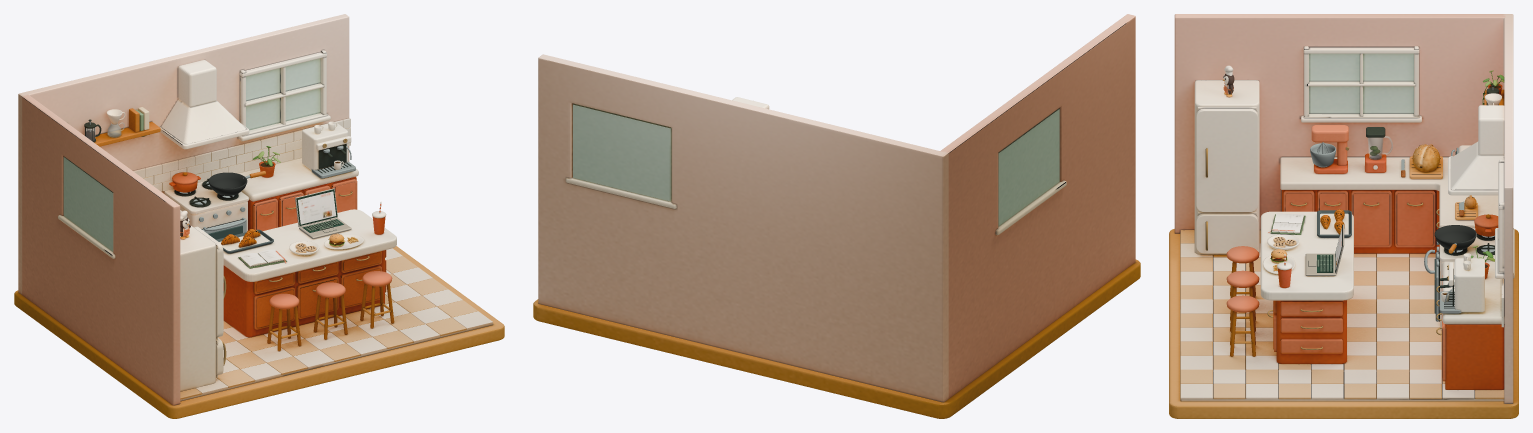
File: kitchen-baked.glb
The picture shows the model from 3 angles, left to right: view 1: azimuth 30°, elevation 25°; view 2: azimuth 150°, elevation 25°; view 3: azimuth 270°, elevation 25°; orthographic projection. The views are drawn at different scales.
Parts seen in each view (by area): view 1: Baked kitchen architecture, Baked kitchen details, Live glass and reflective metal; view 2: Baked kitchen architecture; view 3: Baked kitchen architecture, Baked kitchen details, Live glass and reflective metal.
Boxes of the visible parts, left/top/right/bottom form: Baked kitchen architecture: left=14, top=14, right=504, bottom=418; Baked kitchen details: left=84, top=60, right=492, bottom=399; Live glass and reflective metal: left=86, top=121, right=369, bottom=365; Baked kitchen architecture: left=533, top=14, right=1140, bottom=418; Baked kitchen architecture: left=1169, top=14, right=1518, bottom=418; Baked kitchen details: left=1180, top=65, right=1504, bottom=399; Live glass and reflective metal: left=1205, top=87, right=1498, bottom=349.
Bounding box in the file's own units: 7.5 × 4.49 × 6.2.
Materials: 9 (2 with a texture image).
